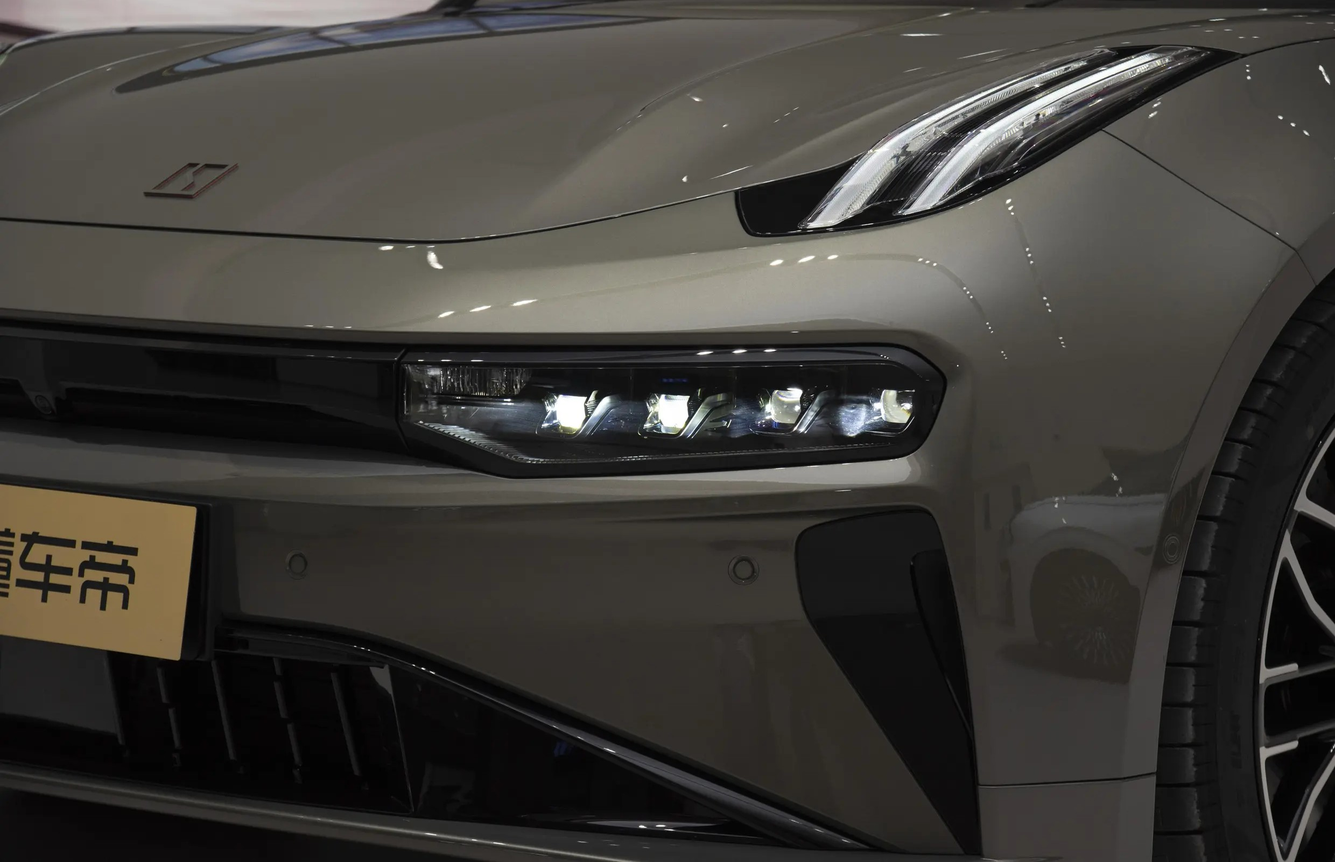ZEEKR: (144, 160, 238, 194)
